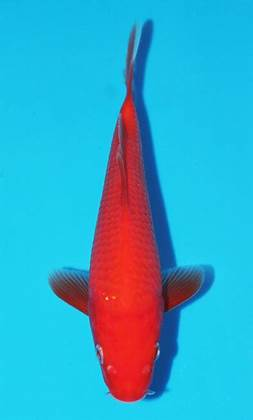red: (50, 17, 208, 402)
